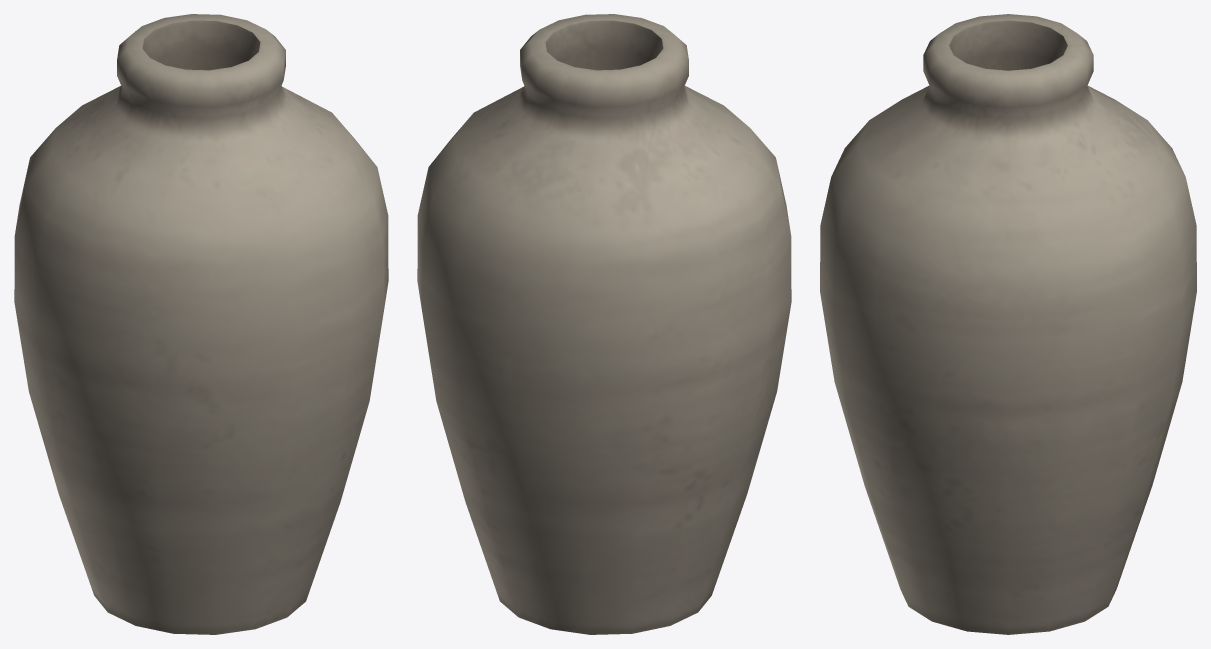
The model's file is o_com_zhuangshi_02.fbx.
3 views of the same model, side by side, from view 1: azimuth 30°, elevation 25°; view 2: azimuth 150°, elevation 25°; view 3: azimuth 270°, elevation 25° (orthographic).
Parts seen in each view (by area): view 1: o_com_zhuangshi_02; view 2: o_com_zhuangshi_02; view 3: o_com_zhuangshi_02.
Part boxes in pixels (box(x1,y1,x2,y2)): o_com_zhuangshi_02: box(14, 14, 388, 634); o_com_zhuangshi_02: box(417, 14, 791, 634); o_com_zhuangshi_02: box(820, 14, 1196, 634).
Size of the model in its own units: 14.68 by 23.36 by 14.68.
